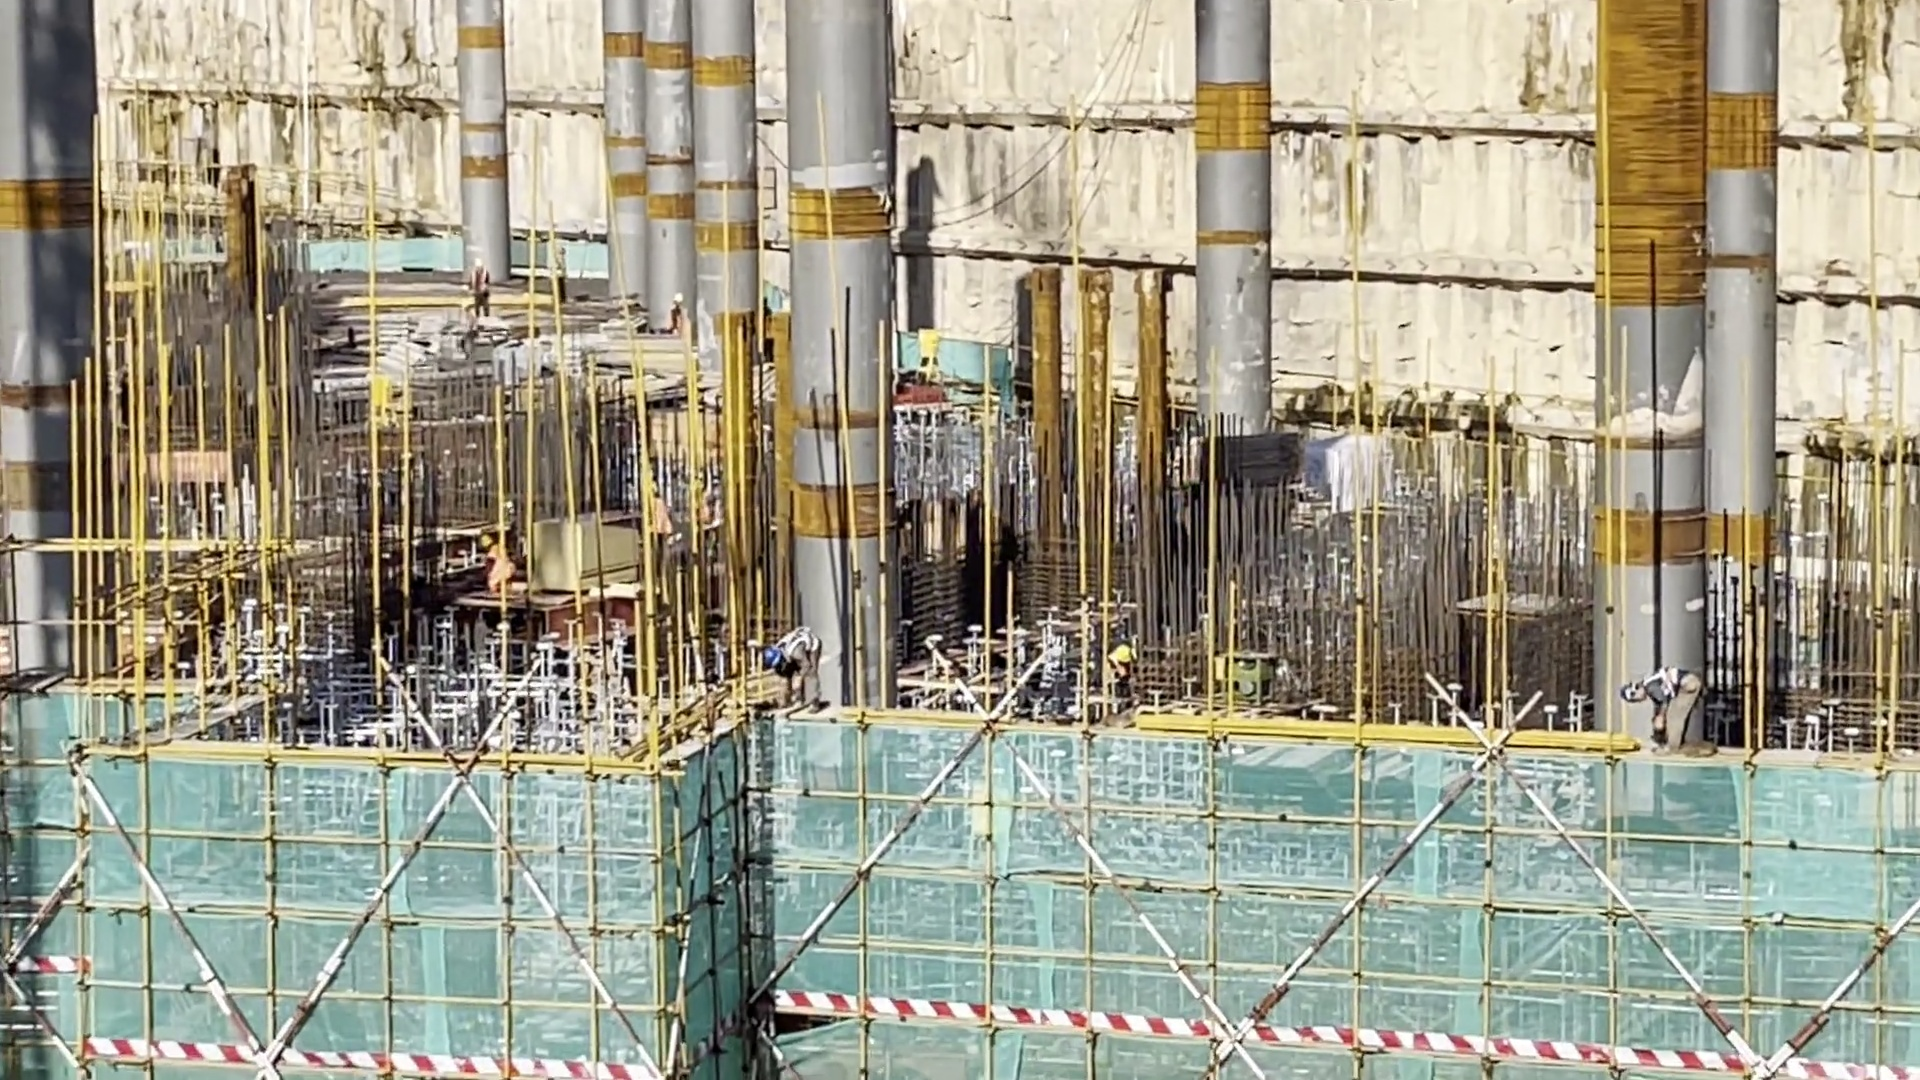board: (518, 514, 659, 581)
ebox: (366, 372, 391, 406), (926, 337, 948, 351)
helmet: (766, 641, 784, 681), (1628, 682, 1651, 706), (1121, 639, 1139, 661), (481, 536, 495, 545), (552, 244, 564, 253), (475, 256, 482, 268), (461, 299, 471, 309), (678, 299, 686, 308)
person: (1626, 656, 1698, 750), (769, 623, 821, 706), (473, 536, 519, 588), (1094, 641, 1121, 723), (471, 250, 496, 318), (545, 241, 571, 303), (667, 288, 693, 338), (460, 299, 480, 365)
vest: (1653, 664, 1698, 707), (789, 622, 816, 662), (1099, 671, 1126, 709), (488, 553, 510, 584), (473, 265, 491, 290), (466, 306, 477, 342), (556, 254, 568, 281), (668, 308, 683, 328)
